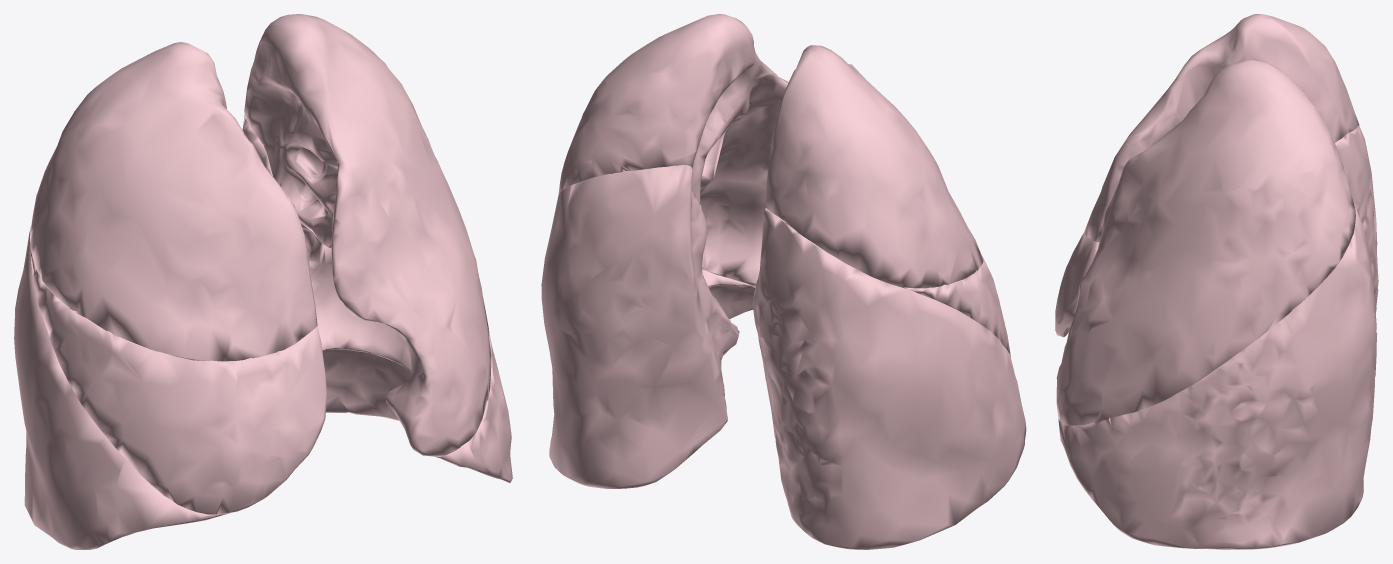
The model's file is lungs.glb.
3 views of the same model, side by side, from view 1: azimuth 30°, elevation 25°; view 2: azimuth 150°, elevation 25°; view 3: azimuth 270°, elevation 25° (orthographic). The views are drawn at different scales.
Parts seen in each view (by area): view 1: lungs; view 2: lungs; view 3: lungs.
Boxes of the visible parts, x1=… form: lungs: x1=14, y1=14, x2=512, y2=549; lungs: x1=541, y1=14, x2=1026, y2=549; lungs: x1=1055, y1=14, x2=1378, y2=549.
Bounding box in the file's own units: 0.2532 × 0.2585 × 0.1806.
